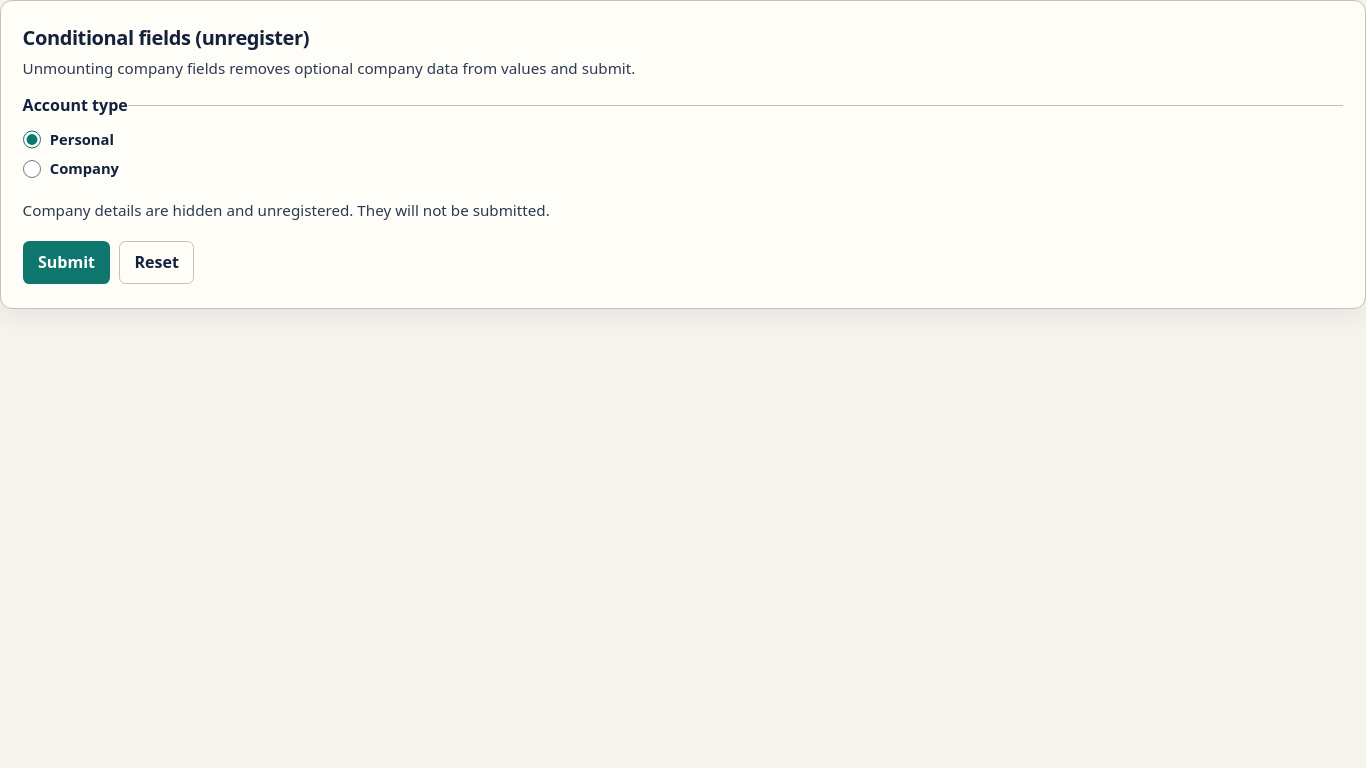
Test: documentation example flows › conditional fields unmount company controls
The width and height of the screenshot is (1366, 768).
Click the radio button labelled "Company" at (32, 169), box [23,160,41,178]
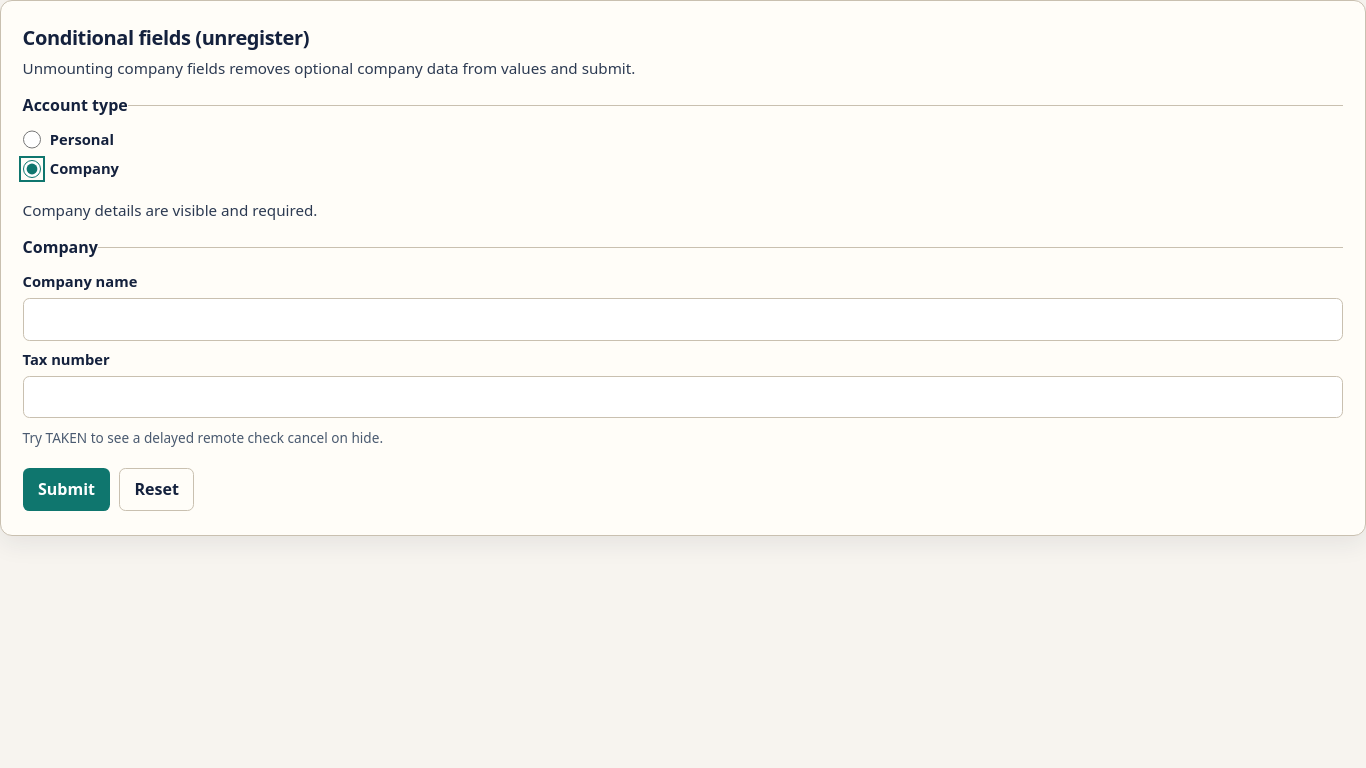
expect the field labelled "Company name" is shown: met, box [23,298,1343,341]
Click the radio button labelled "Personal" at (32, 140), box [23,130,41,149]
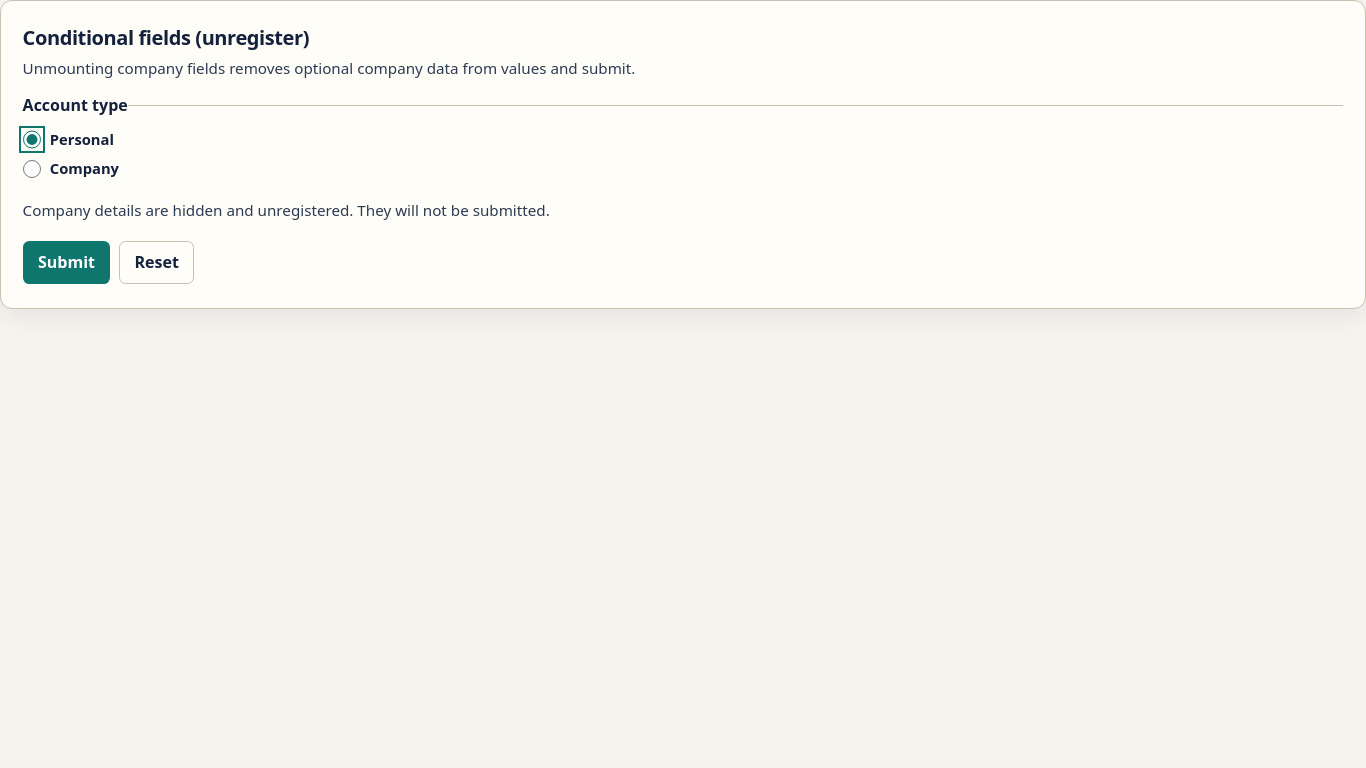
expect the label labelled "Company name" is gone: met
